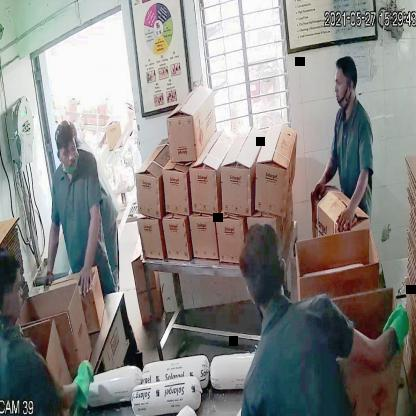no_goggles: (52, 138, 81, 159), (332, 73, 358, 94)
